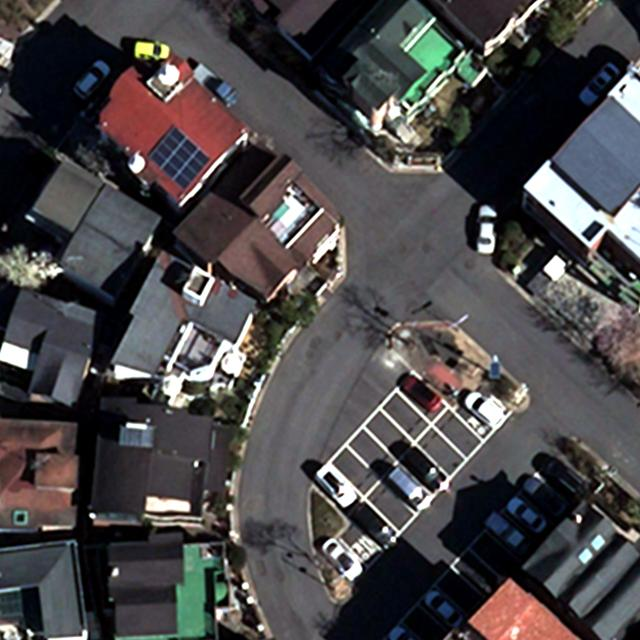panel: (150, 123, 216, 193)
